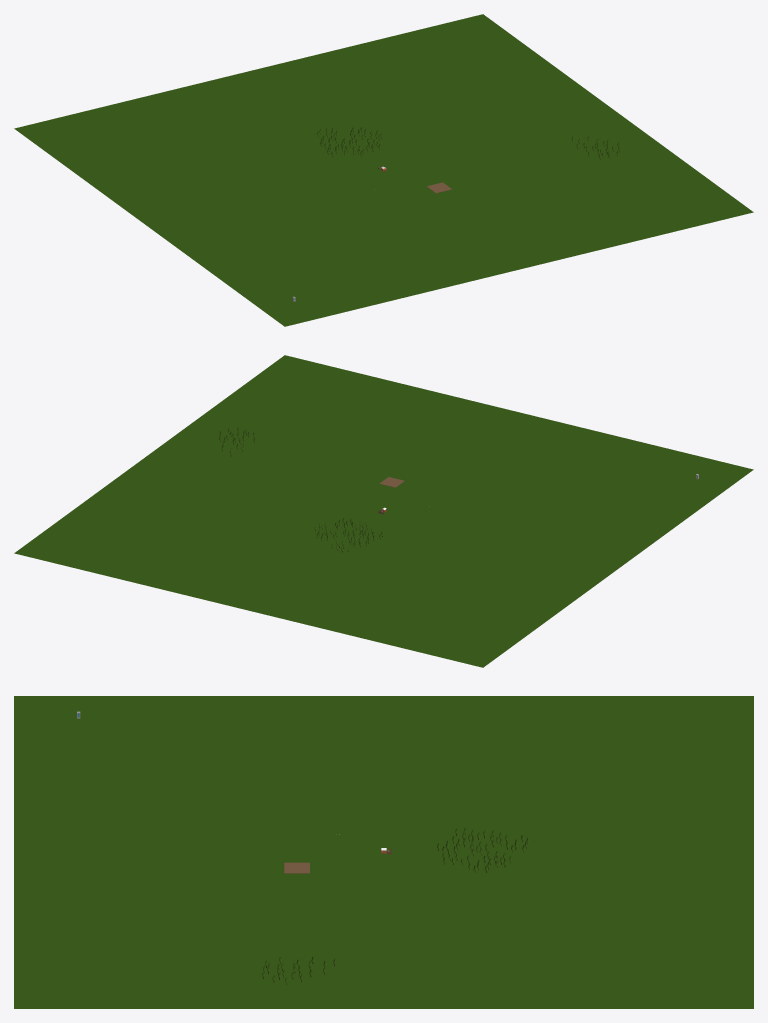
Rendered from challenge-track.glb.
3 renders of one model, top to bottom at view 1: azimuth 30°, elevation 25°; view 2: azimuth 150°, elevation 25°; view 3: azimuth 270°, elevation 25°, orthographic. The views are drawn at different scales.
Parts seen in each view (by area): view 1: ground; view 2: ground; view 3: ground.
Part boxes in pixels (<box>): ground: <box>14,14,753,326</box>; ground: <box>14,355,753,667</box>; ground: <box>14,696,753,1008</box>.
Bounding box in the file's own units: 2879 × 42.61 × 2879.
2 materials, 2 textured.
